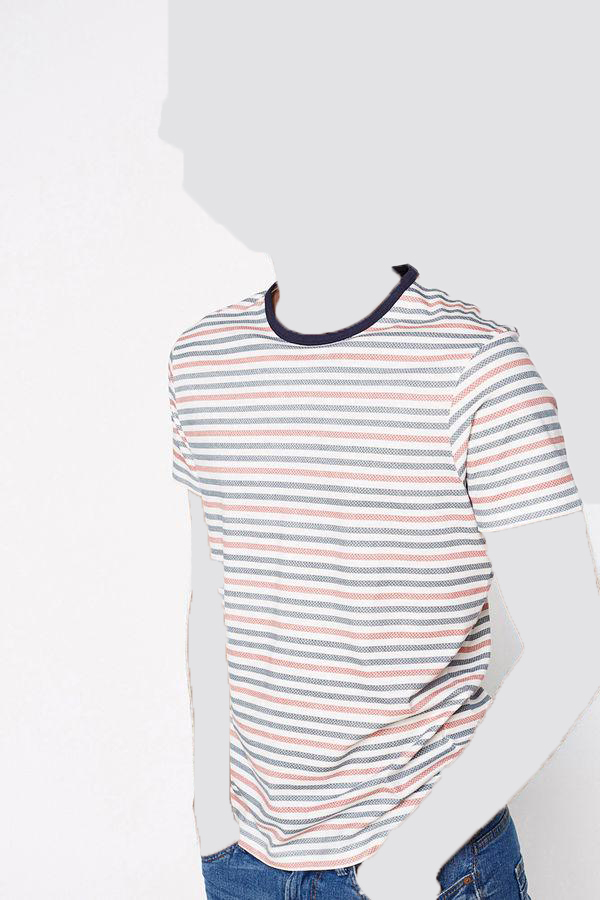teeshirt: (160, 259, 600, 874)
